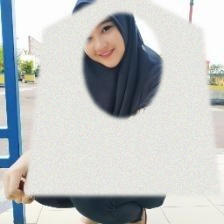Mukena: (24, 0, 221, 196)
